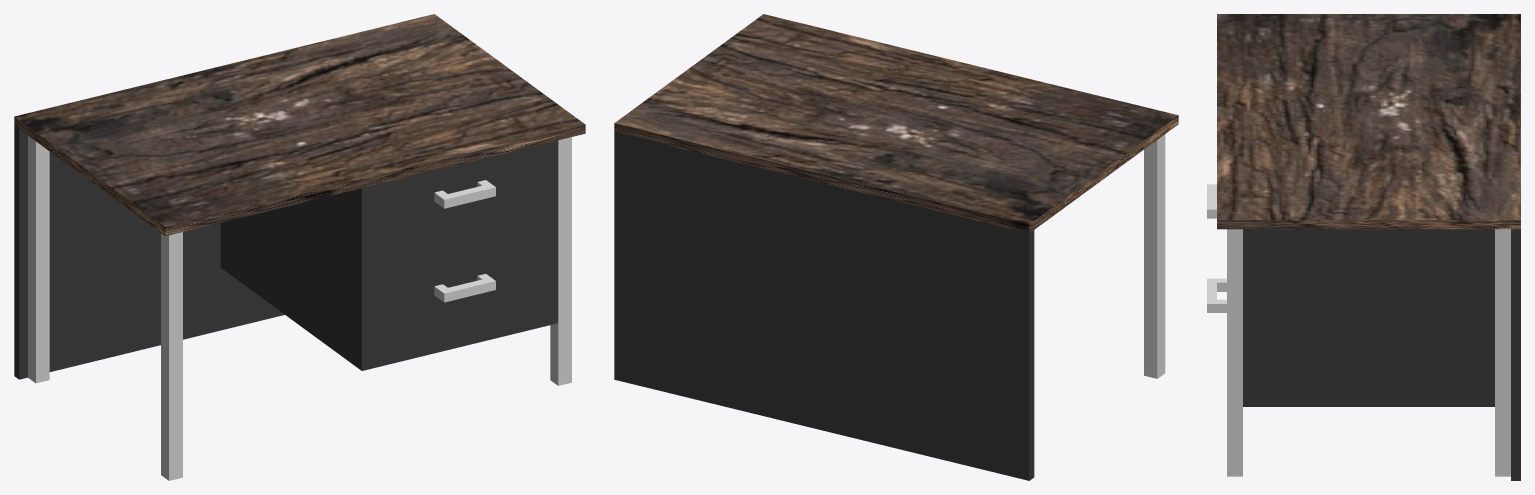
Rendered from TeachersDesk.fbx.
3 views of the same model, side by side, from view 1: azimuth 30°, elevation 25°; view 2: azimuth 150°, elevation 25°; view 3: azimuth 270°, elevation 25° (orthographic).
Visible parts, largest first — view 1: Desktop, Cube, BackofDesk, TopDrawer, FrontLeftLeg, BackLeftLeg, FrontRightLeg, Handle, Handle.001; view 2: BackofDesk, Desktop, FrontLeftLeg; view 3: Desktop, Cube, TopDrawer, BackRightLeg, FrontRightLeg, BackofDesk, Handle.001, Handle.
Part boxes in pixels (<box>): Desktop: <box>14,14,585,235</box>; Cube: <box>220,198,558,370</box>; BackofDesk: <box>14,126,284,379</box>; TopDrawer: <box>303,140,558,245</box>; FrontLeftLeg: <box>161,232,182,480</box>; BackLeftLeg: <box>28,136,49,383</box>; FrontRightLeg: <box>550,137,571,385</box>; Handle: <box>434,180,495,208</box>; Handle.001: <box>434,274,495,302</box>; BackofDesk: <box>614,132,1034,480</box>; Desktop: <box>614,14,1178,233</box>; FrontLeftLeg: <box>1144,134,1165,378</box>; Desktop: <box>1217,14,1520,229</box>; Cube: <box>1243,281,1494,406</box>; TopDrawer: <box>1243,229,1494,280</box>; BackRightLeg: <box>1495,229,1510,476</box>; FrontRightLeg: <box>1227,229,1242,476</box>; BackofDesk: <box>1511,229,1520,480</box>; Handle.001: <box>1207,278,1226,312</box>; Handle: <box>1207,184,1216,218</box>.
Bounding box in the file's own units: 122 × 72 × 78.5.
